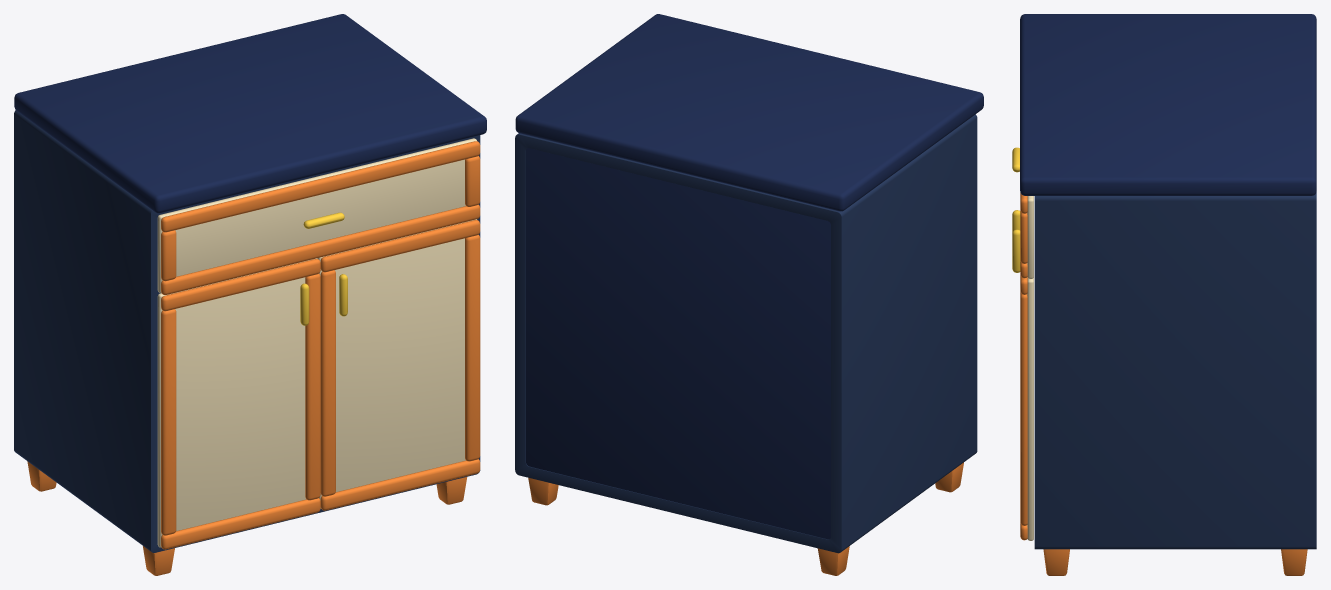
File: armario_cozinha_base_2portas_grafite_noite.glb
The picture shows the model from 3 angles, left to right: view 1: azimuth 30°, elevation 25°; view 2: azimuth 150°, elevation 25°; view 3: azimuth 270°, elevation 25°; orthographic projection. The views are drawn at different scales.
Visible parts, largest first — view 1: armario_cozinha_base_2portas_grafite_noite, porta_1, porta_2, gaveta_1; view 2: armario_cozinha_base_2portas_grafite_noite; view 3: armario_cozinha_base_2portas_grafite_noite, porta_2, gaveta_1.
Part boxes in pixels (box(x1,y1,x2,y2)): armario_cozinha_base_2portas_grafite_noite: box(14, 14, 486, 575); porta_1: box(157, 258, 320, 549); porta_2: box(317, 219, 480, 510); gaveta_1: box(157, 138, 480, 294); armario_cozinha_base_2portas_grafite_noite: box(515, 14, 983, 575); armario_cozinha_base_2portas_grafite_noite: box(1020, 14, 1316, 575); porta_2: box(1012, 229, 1033, 540); gaveta_1: box(1012, 147, 1033, 278).
Size of the model in its own units: 0.798 by 0.9 by 0.6147.
Materials: 1 (1 with a texture image).
